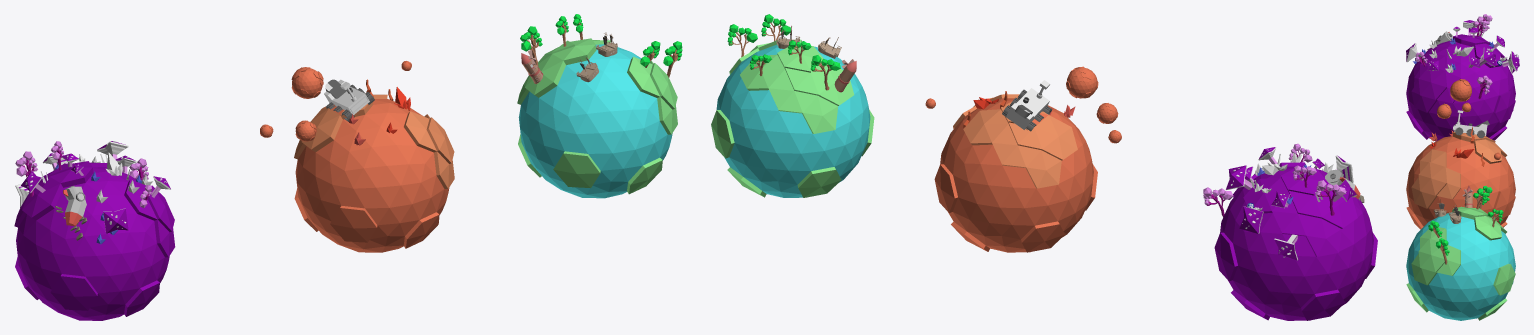
The model's file is planets.fbx.
3 renders of one model, left to right at view 1: azimuth 30°, elevation 25°; view 2: azimuth 150°, elevation 25°; view 3: azimuth 270°, elevation 25°, orthographic. The views are drawn at different scales.
Visible parts, largest first — view 1: Icosphere.009, Icosphere.004, Icosphere, Cube.030, Icosphere.005, Cylinder, Cube.016; view 2: Icosphere.009, Icosphere.004, Icosphere, Cube.030, Icosphere.005, Cube.014; view 3: Icosphere.009, Icosphere, Icosphere.004, Cube.030, Icosphere.005, Cube.010, Icosphere.006, Cube.014, Cone, Cube.016, Icosphere.003, Plane.008 (+14 smaller).
Boxes of the visible parts, box(x1,y1,x2,y2) form: Icosphere.009: box(517, 38, 677, 198); Icosphere.004: box(294, 94, 454, 252); Icosphere: box(14, 161, 175, 320); Cube.030: box(324, 79, 374, 121); Icosphere.005: box(291, 67, 323, 98); Cylinder: box(63, 186, 86, 226); Cube.016: box(103, 208, 128, 233); Icosphere.009: box(711, 39, 874, 197); Icosphere.004: box(934, 94, 1097, 252); Icosphere: box(1214, 162, 1377, 320); Cube.030: box(1002, 80, 1052, 131); Icosphere.005: box(1066, 66, 1098, 98); Cube.014: box(1239, 206, 1263, 233); Icosphere.009: box(1406, 206, 1515, 320); Icosphere: box(1406, 34, 1515, 141); Icosphere.004: box(1406, 132, 1515, 229); Cube.030: box(1452, 110, 1489, 138); Icosphere.005: box(1450, 79, 1471, 101); Cube.010: box(1479, 47, 1495, 66); Icosphere.006: box(1437, 103, 1451, 118); Cube.014: box(1502, 51, 1519, 71); Cone: box(1462, 185, 1472, 207); Cube.016: box(1406, 43, 1418, 62); Icosphere.003: box(1477, 75, 1492, 94); Plane.008: box(1453, 46, 1473, 56).
Bounding box in the file's own units: 955 × 275 × 207.
